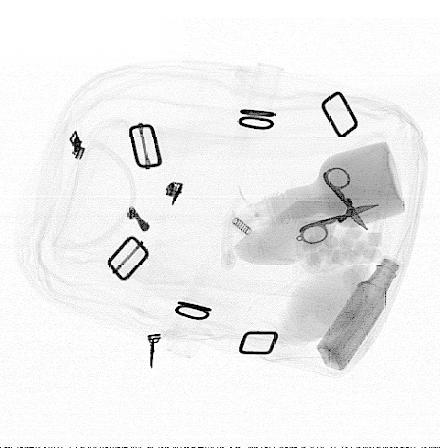Scissors: (295, 166, 383, 247)
